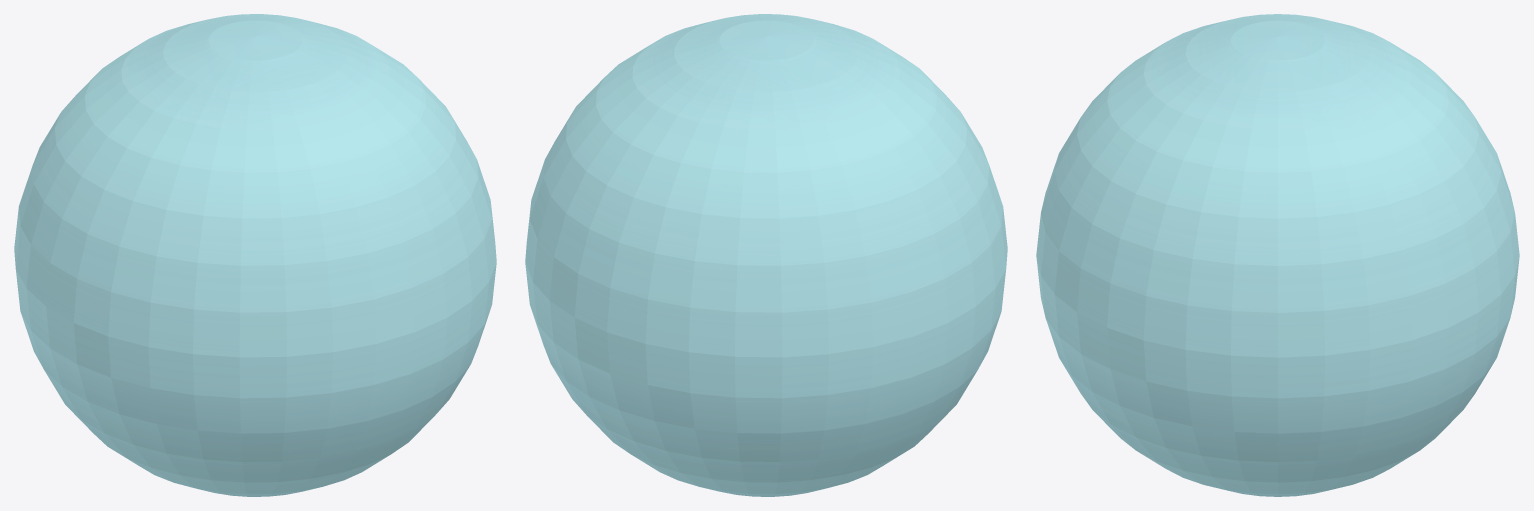
File: urano.glb
3 views of the same model, side by side, from view 1: azimuth 30°, elevation 25°; view 2: azimuth 150°, elevation 25°; view 3: azimuth 270°, elevation 25° (orthographic).
Visible parts, largest first — view 1: Esfera; view 2: Esfera; view 3: Esfera.
Part boxes in pixels (x1,y1,x2,y2): Esfera: [14, 14, 496, 496]; Esfera: [525, 14, 1007, 496]; Esfera: [1036, 14, 1519, 496].
Bounding box in the file's own units: 2 × 2 × 2.
1 material, 1 textured.
